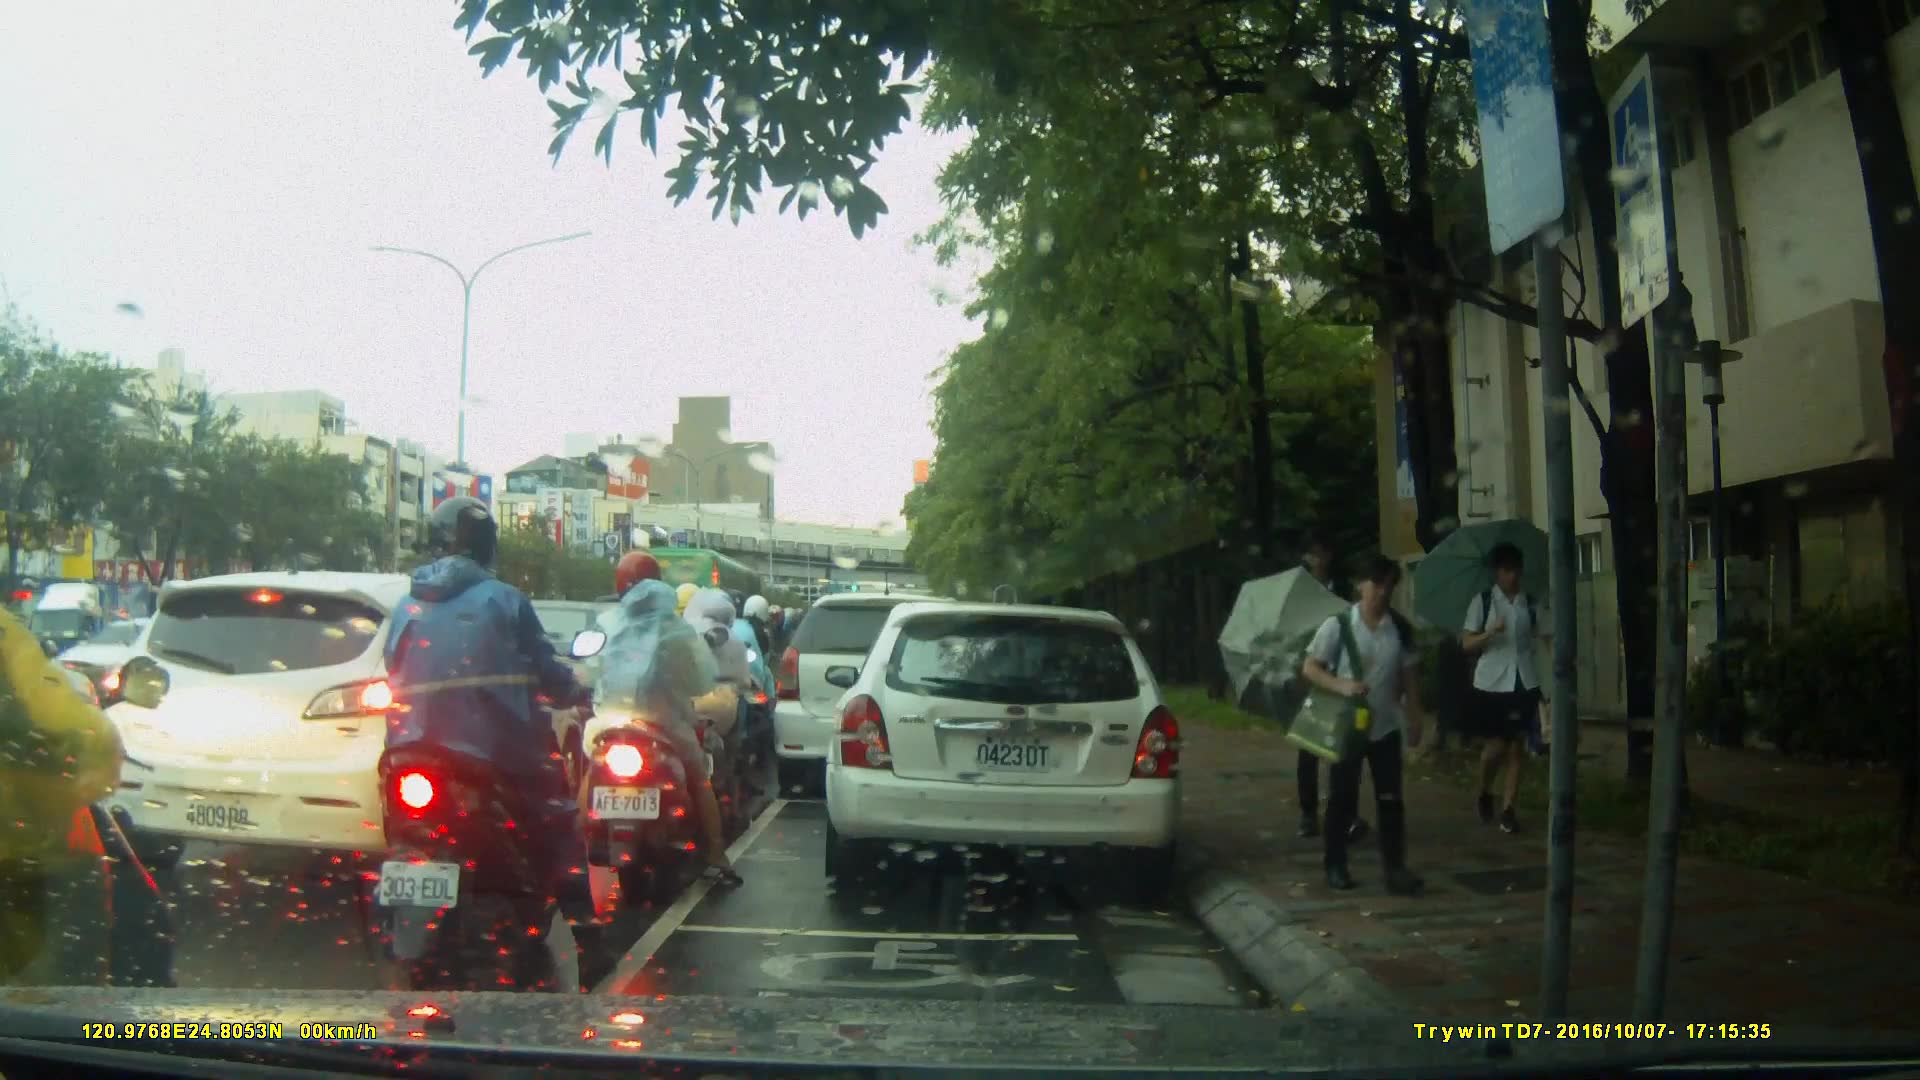pedestrian: (1293, 549, 1433, 893), (1461, 535, 1562, 845), (1291, 527, 1372, 860)
rider: (376, 492, 614, 968), (1, 455, 180, 1080), (568, 556, 746, 897), (640, 579, 764, 822), (703, 594, 784, 772)
vehicle: (95, 569, 617, 883), (822, 604, 1188, 883), (774, 595, 995, 802), (20, 576, 199, 697), (61, 616, 223, 703)
